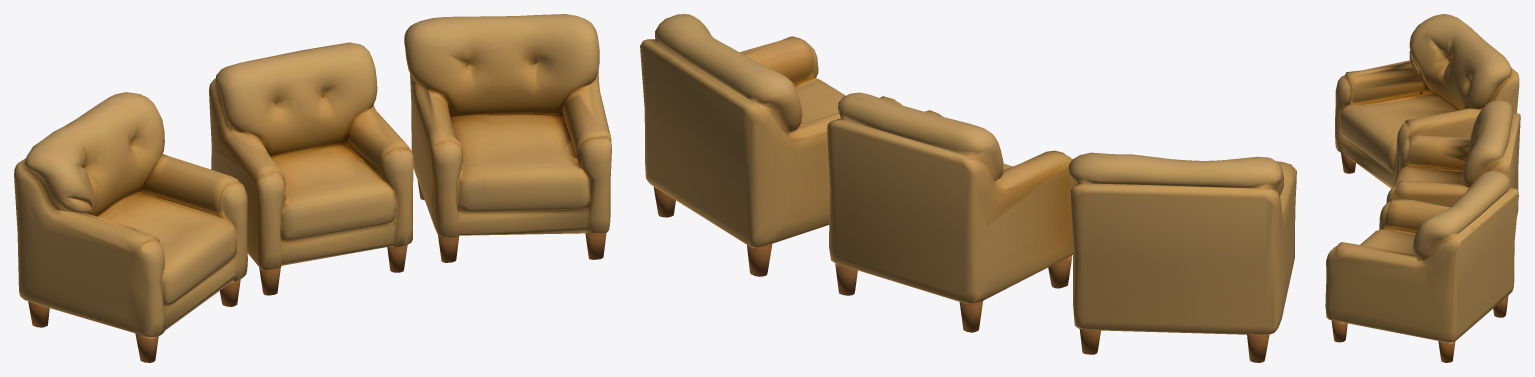
Rendered from 3chairs.glb.
The picture shows the model from 3 angles, left to right: view 1: azimuth 30°, elevation 25°; view 2: azimuth 150°, elevation 25°; view 3: azimuth 270°, elevation 25°; orthographic projection. The views are drawn at different scales.
Parts seen in each view (by area): view 1: material; view 2: material; view 3: material.
Part boxes in pixels (x1,y1,x2,y2): material: (14,14,611,362); material: (640,14,1296,362); material: (1325,14,1520,362).
Bounding box in the file's own units: 1.9 × 0.5643 × 0.7088.
Materials: 1 (1 with a texture image).
